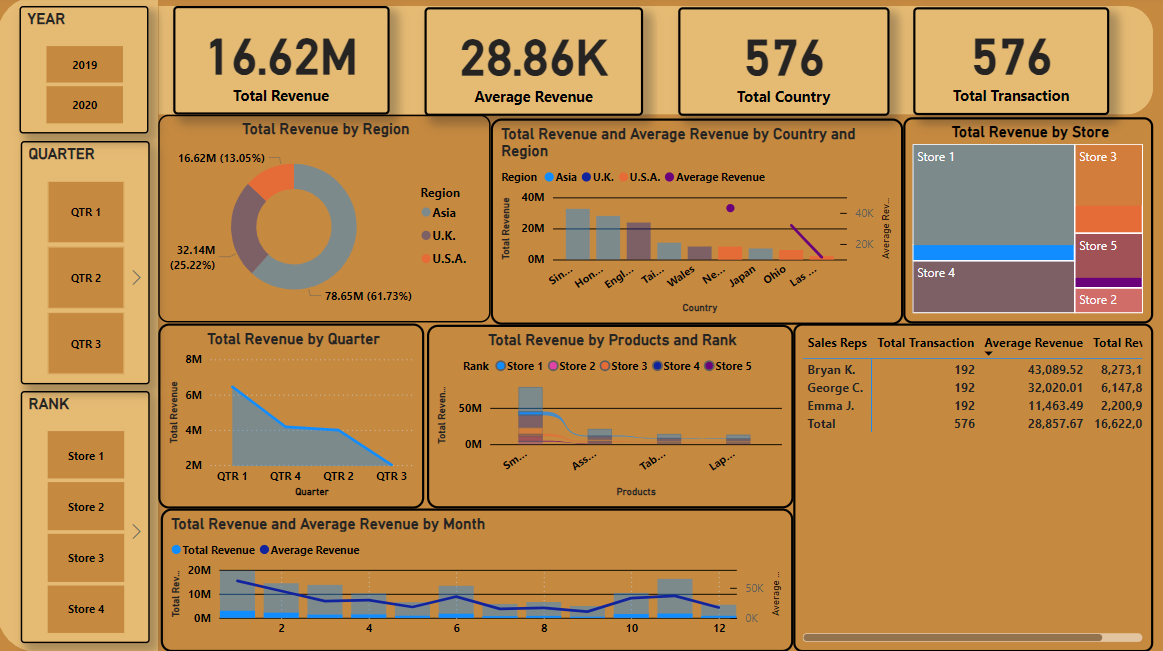

Layout of this report page (visuals, bound fields, positions):
{"tool":"powerbi","page":{"name":"Page 1","canvas":[1280,720],"ordinal":0},"visuals":[{"type":"shape","box":[9.6,0,168.8,720.4],"z":0},{"type":"shape","box":[175.6,0,1095,127.6],"z":1000},{"type":"card","fields":{"Values":["Measures (2).Total Revenue"]},"box":[178.4,0,227.8,122.1],"z":2000},{"type":"card","fields":{"Values":["Measures (2).Average Revenue"]},"box":[430.9,2.7,227.8,122.1],"z":2001},{"type":"card","fields":{"Values":["Measures (2).Total Country"]},"box":[693,2.7,227.8,122.1],"z":2002},{"type":"card","fields":{"Values":["Measures (2).Total Transaction"]},"box":[955.1,2.7,227.8,122.1],"z":2003},{"type":"donutChart","fields":{"Y":["Measures (2).Total Revenue"],"Category":["Sheet1.Region"]},"box":[178.4,126.2,332.1,199],"z":2004},{"type":"slicer","title":"YEAR","fields":{"Values":["Sheet1.Years"]},"box":[31.6,22,133.1,144.1],"z":2006},{"type":"slicer","title":"QUARTER","fields":{"Values":["Sheet1.Quarter"]},"box":[32.9,171.5,133.1,307.4],"z":2007},{"type":"slicer","title":"RANK","fields":{"Values":["Sheet1.Rank"]},"box":[34.3,484.4,133.1,226.4],"z":2008},{"type":"lineStackedColumnComboChart","fields":{"Category":["Sheet1.Country"],"Y":["Measures (2).Total Revenue"],"Y2":["Measures (2).Average Revenue"]},"box":[513.2,127.6,466.6,197.6],"z":2009},{"type":"treemap","fields":{"Group":["Sheet1.Rank"],"Values":["Measures (2).Total Revenue"]},"box":[989.4,127.6,281.3,197.6],"z":2010},{"type":"areaChart","fields":{"Y":["Measures (2).Total Revenue"],"Category":["Sheet1.Quarter"]},"box":[178.4,325.2,332.1,209.9],"z":2011},{"type":"ribbonChart","fields":{"Category":["Sheet1.Products"],"Y":["Measures (2).Total Revenue"],"Series":["Sheet1.Rank"]},"box":[517.3,325.2,332.1,209.9],"z":2012},{"type":"pivotTable","fields":{"Rows":["Sheet1.Sales Reps"],"Values":["Measures (2).Total Transaction","Measures (2).Total Revenue","Measures (2).Average Revenue"]},"box":[849.4,332.1,430.9,388.3],"z":2013},{"type":"lineStackedColumnComboChart","fields":{"Category":["Sheet1.Month"],"Y2":["Measures (2).Average Revenue"],"Y":["Measures (2).Total Revenue"]},"box":[178.4,535.2,671,185.2],"z":2014}]}

Visuals, with their boxes in screenshot pixels (x1, y1, x2, y2), scaled from the page's 1280x720 canvas onto the 1163x651 screenshot:
shape: 9/0/162/650
shape: 160/0/1154/115
card - Measures (2).Total Revenue: 162/0/369/110
card - Measures (2).Average Revenue: 392/2/598/113
card - Measures (2).Total Country: 630/2/837/113
card - Measures (2).Total Transaction: 868/2/1075/113
donutChart - Measures (2).Total Revenue x Sheet1.Region: 162/114/464/294
"YEAR" slicer: 29/20/150/150
"QUARTER" slicer: 30/155/151/433
"RANK" slicer: 31/438/152/643
lineStackedColumnComboChart - Sheet1.Country x Measures (2).Total Revenue: 466/115/890/294
treemap - Sheet1.Rank x Measures (2).Total Revenue: 899/115/1155/294
areaChart - Measures (2).Total Revenue x Sheet1.Quarter: 162/294/464/484
ribbonChart - Sheet1.Products x Measures (2).Total Revenue: 470/294/772/484
pivotTable - Sheet1.Sales Reps x Measures (2).Total Transaction: 772/300/1162/650
lineStackedColumnComboChart - Sheet1.Month x Measures (2).Average Revenue: 162/484/772/650
